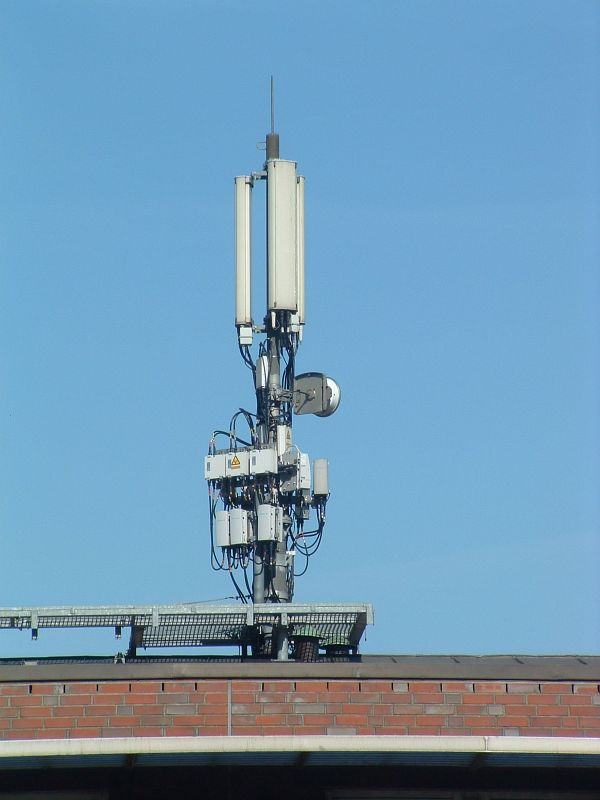a: (268, 157, 298, 313), (233, 174, 252, 322)
